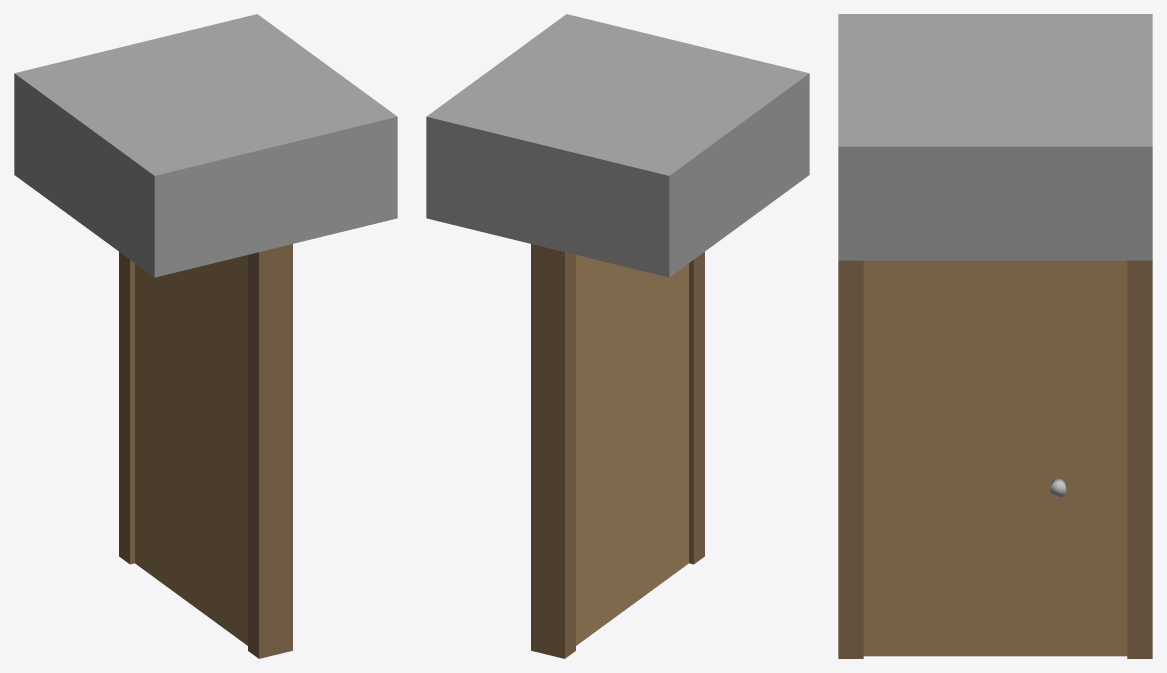
Rendered from door.glb.
The picture shows the model from 3 angles, left to right: view 1: azimuth 30°, elevation 25°; view 2: azimuth 150°, elevation 25°; view 3: azimuth 270°, elevation 25°; orthographic projection. The views are drawn at different scales.
Parts seen in each view (by area): view 1: Cube; view 2: Cube; view 3: Cube.
Part boxes in pixels (<box>): Cube: <box>14,14,397,658</box>; Cube: <box>426,14,809,658</box>; Cube: <box>838,14,1152,658</box>.
Bounding box in the file's own units: 1 × 2 × 1.
